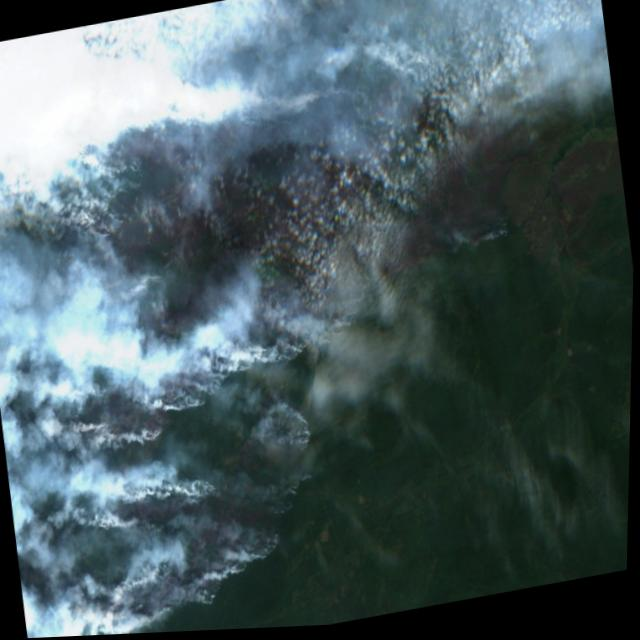fire: (25, 0, 500, 461), (84, 447, 305, 637)
